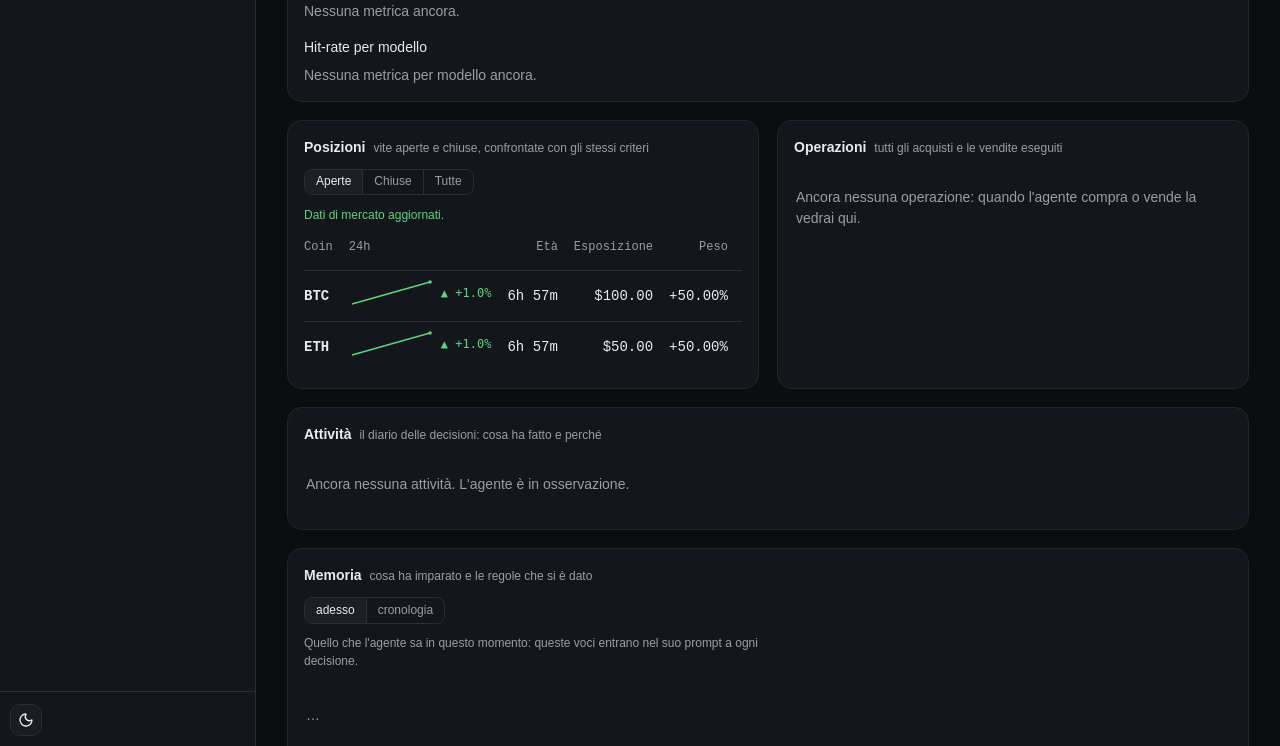
Scenario: App lifecycle navigation › closes with Escape and focuses the first live row when polling removes the selection
This screenshot has width=1280, height=746.
(page scrolled)
Click the button with aria-label "Apri dettagli BTC".
click(317, 296)  # box [304,286,329,306]
Wait 15000 ms
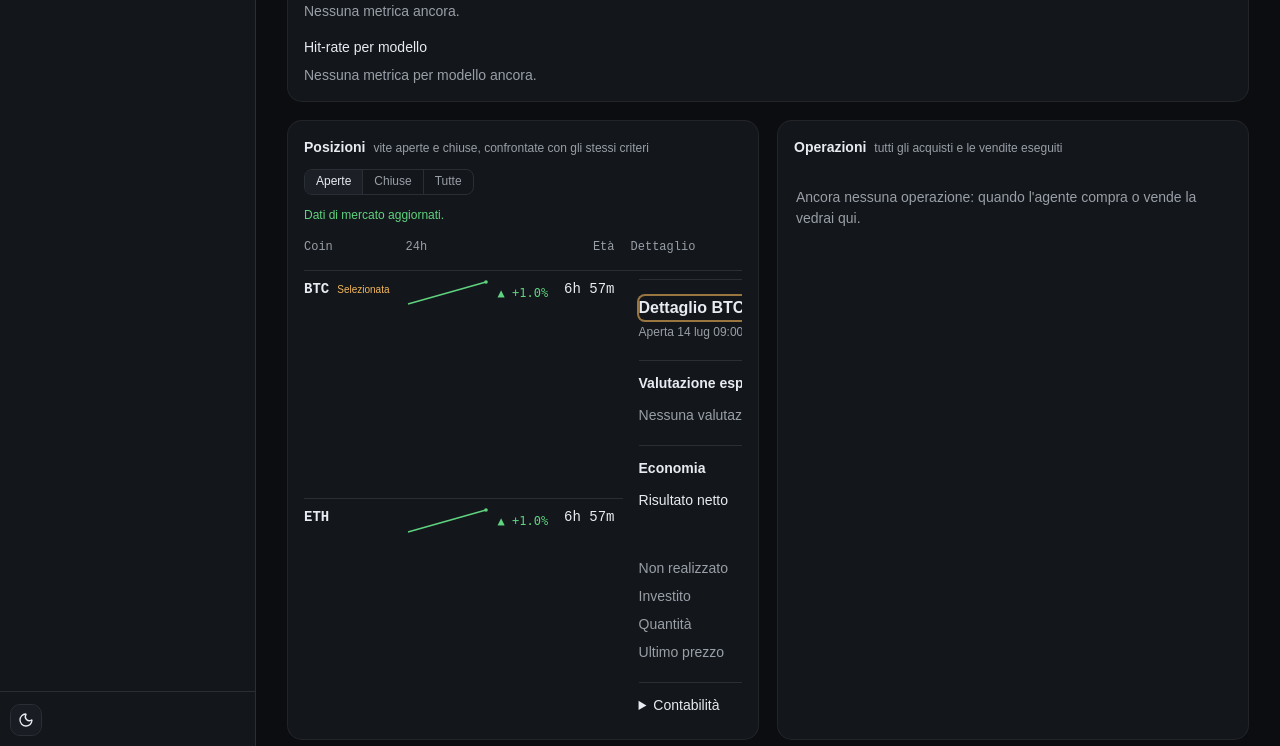
Press Escape
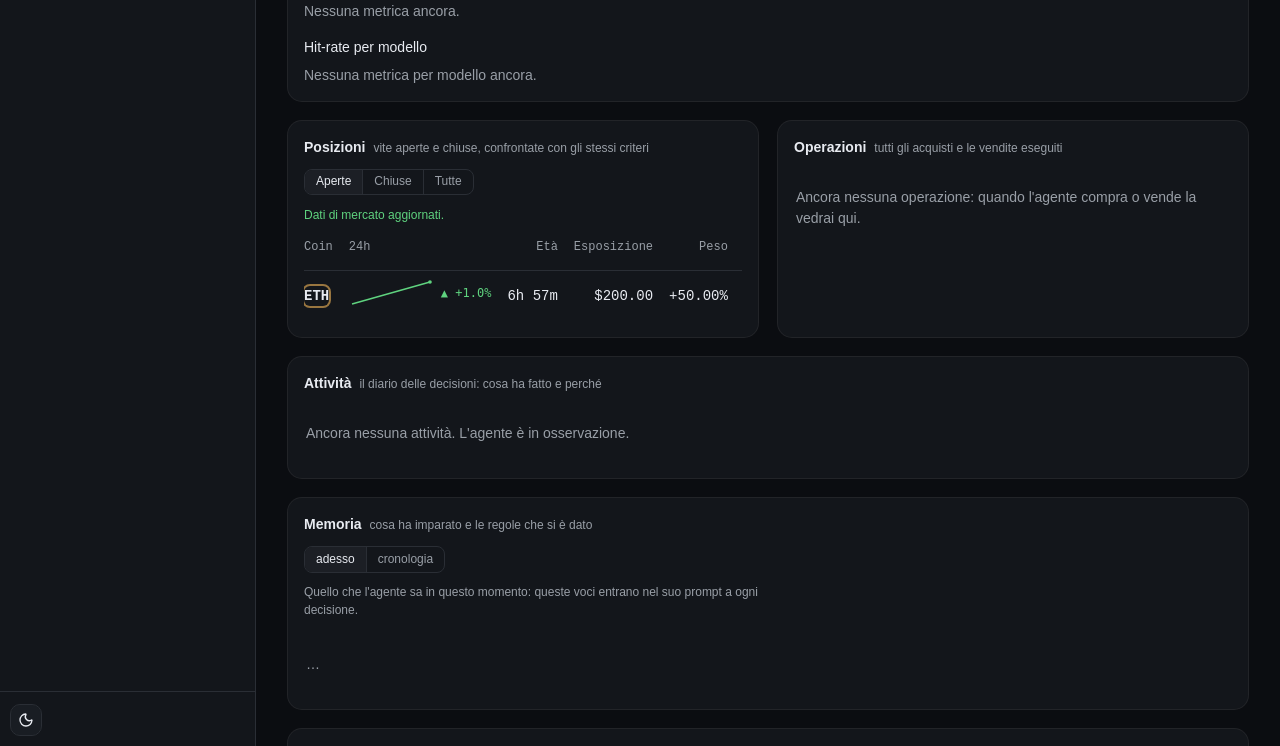
Expected: the heading "Dettaglio BTC" is gone
